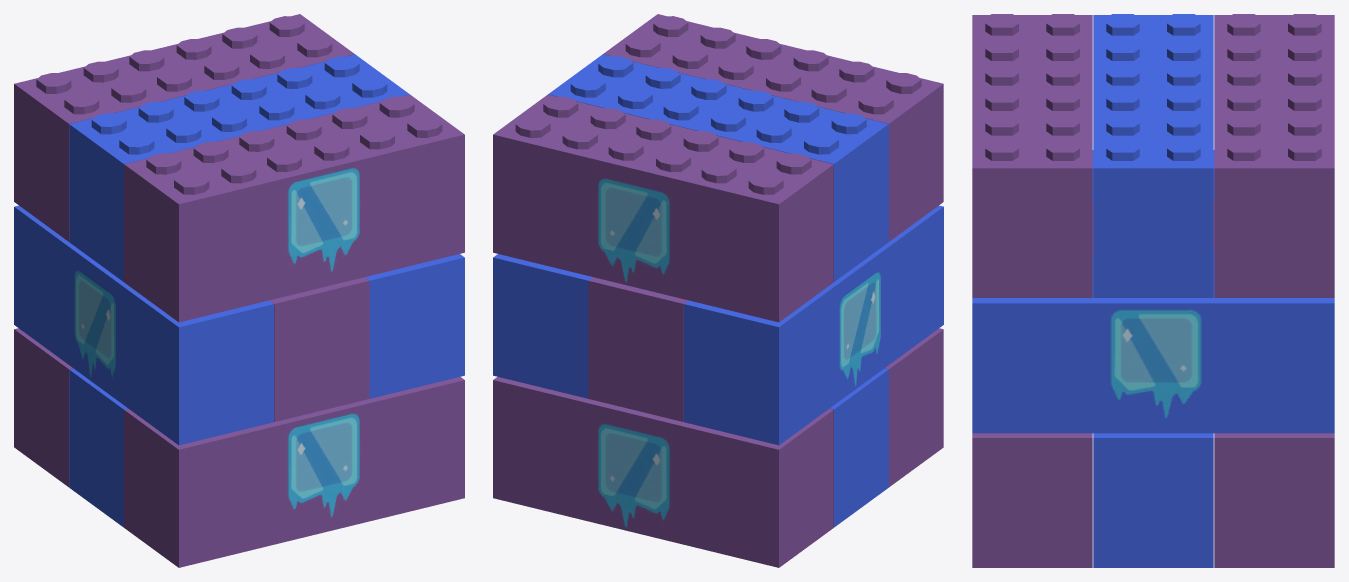
Rendered from InteractableBlock3x3Shrink.fbx.
The picture shows the model from 3 angles, left to right: view 1: azimuth 30°, elevation 25°; view 2: azimuth 150°, elevation 25°; view 3: azimuth 270°, elevation 25°; orthographic projection. The views are drawn at different scales.
Parts seen in each view (by area): view 1: Cube.035; view 2: Cube.035; view 3: Cube.035.
Boxes of the visible parts, x1,y1,x2,y2 form: Cube.035: (14, 14, 464, 567); Cube.035: (493, 14, 943, 567); Cube.035: (972, 14, 1334, 567).
Size of the model in its own units: 457 by 566 by 456.
